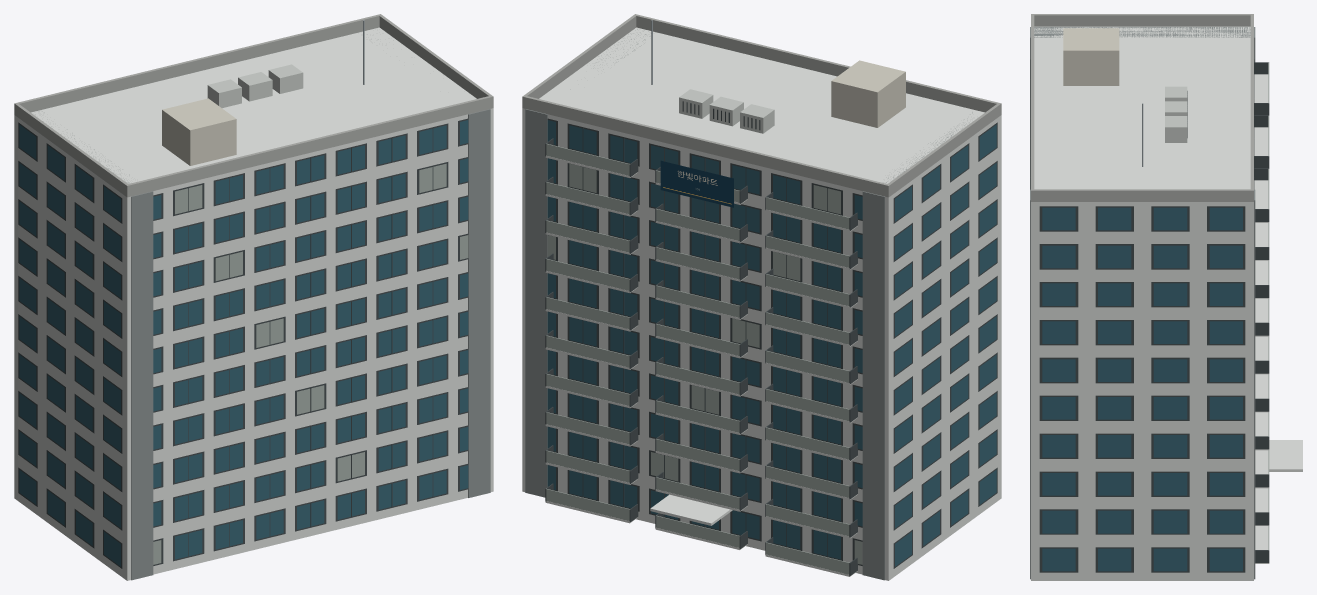
Rendered from apartment_slab.glb.
3 renders of one model, left to right at view 1: azimuth 30°, elevation 25°; view 2: azimuth 150°, elevation 25°; view 3: azimuth 270°, elevation 25°, orthographic.
Parts seen in each view (by area): view 1: apartment_slab; view 2: apartment_slab; view 3: apartment_slab.
Boxes of the visible parts, x1,y1,x2,y2 form: apartment_slab: [14, 14, 493, 580]; apartment_slab: [522, 14, 1001, 580]; apartment_slab: [1030, 14, 1302, 580].
Bounding box in the file's own units: 30.09 × 35 × 19.57.
10 materials, 1 textured.
